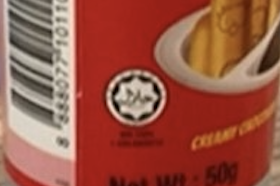halal: (115, 86, 153, 107)
